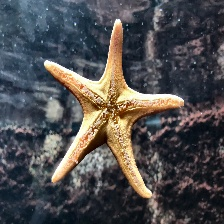starfish: (44, 19, 190, 201)
